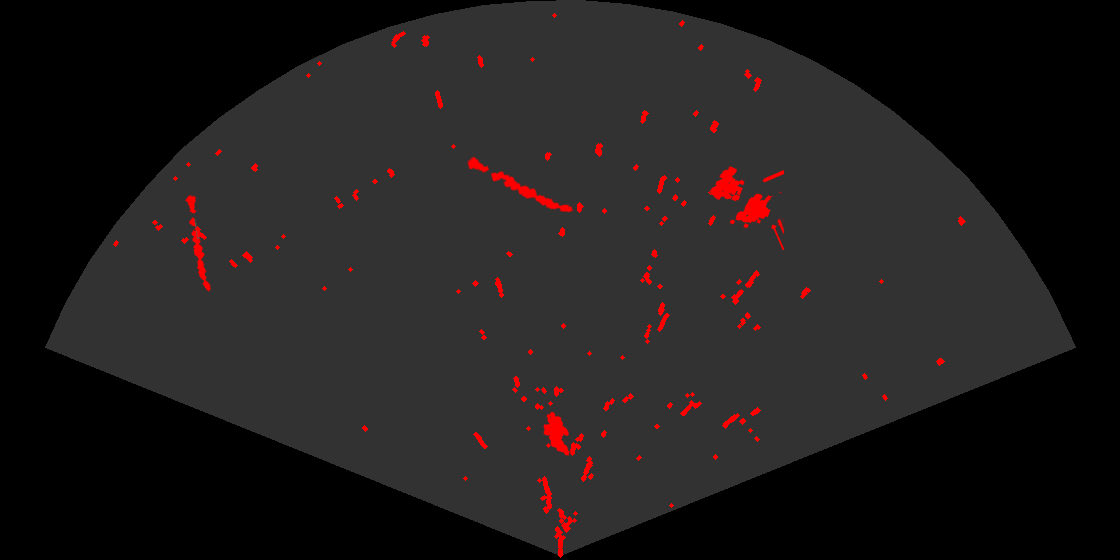AUV: (542, 410, 571, 457)
cage: (709, 165, 784, 250)
chain: (466, 155, 575, 214), (184, 193, 212, 293)
